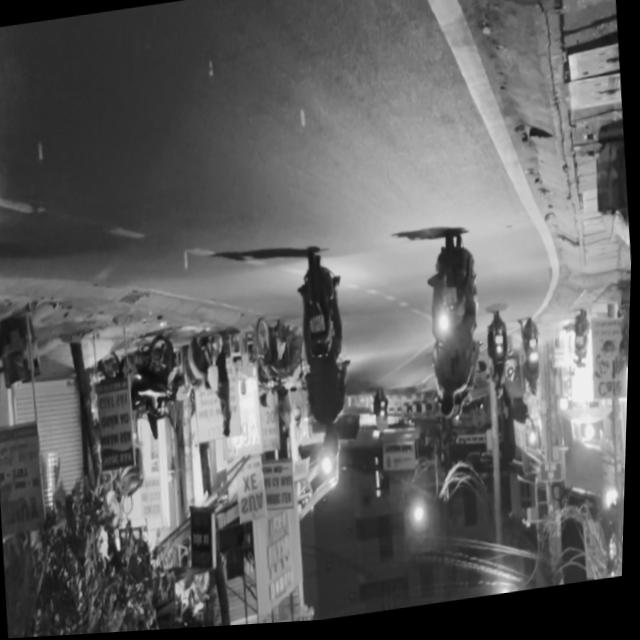licenseplate: (286, 246, 368, 481)
